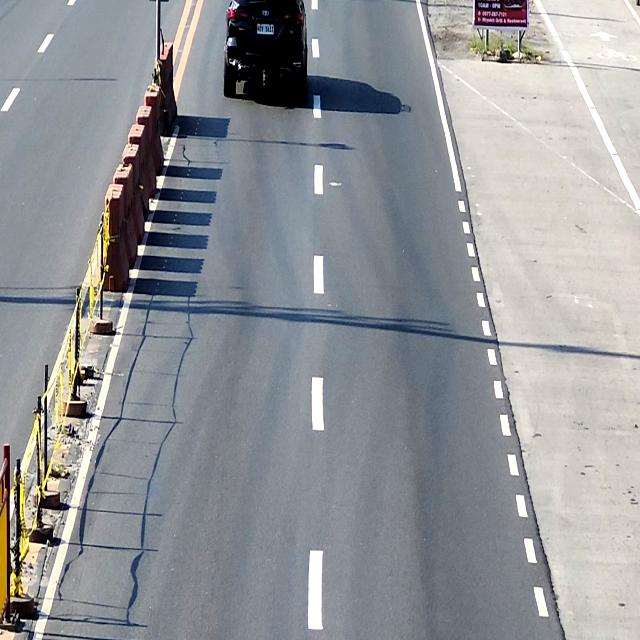Car: (223, 0, 308, 99)
License-Plate: (256, 23, 274, 35)
